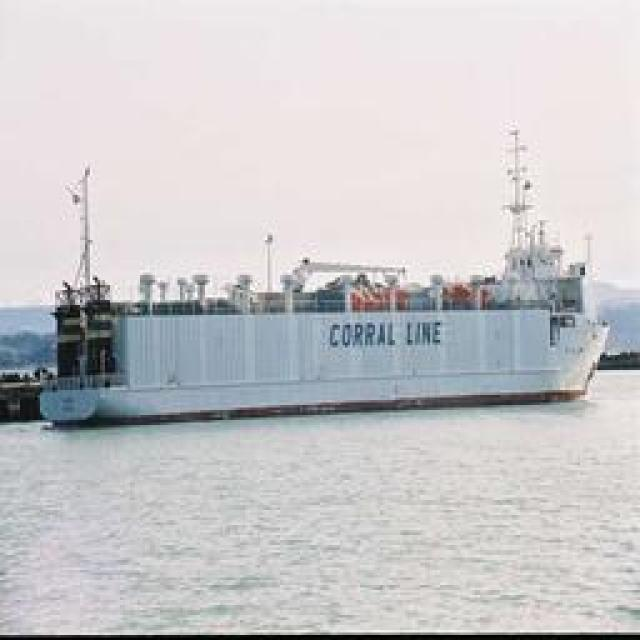ship2: (39, 124, 611, 427)
